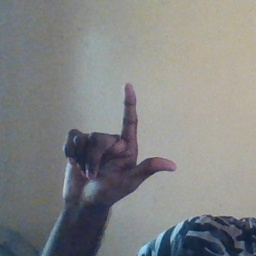L: (55, 81, 178, 204)
